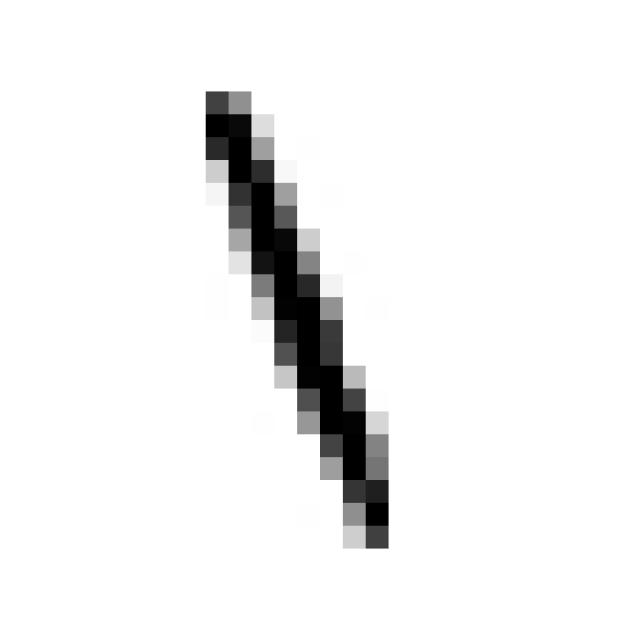1 -one-: (183, 71, 409, 569)
